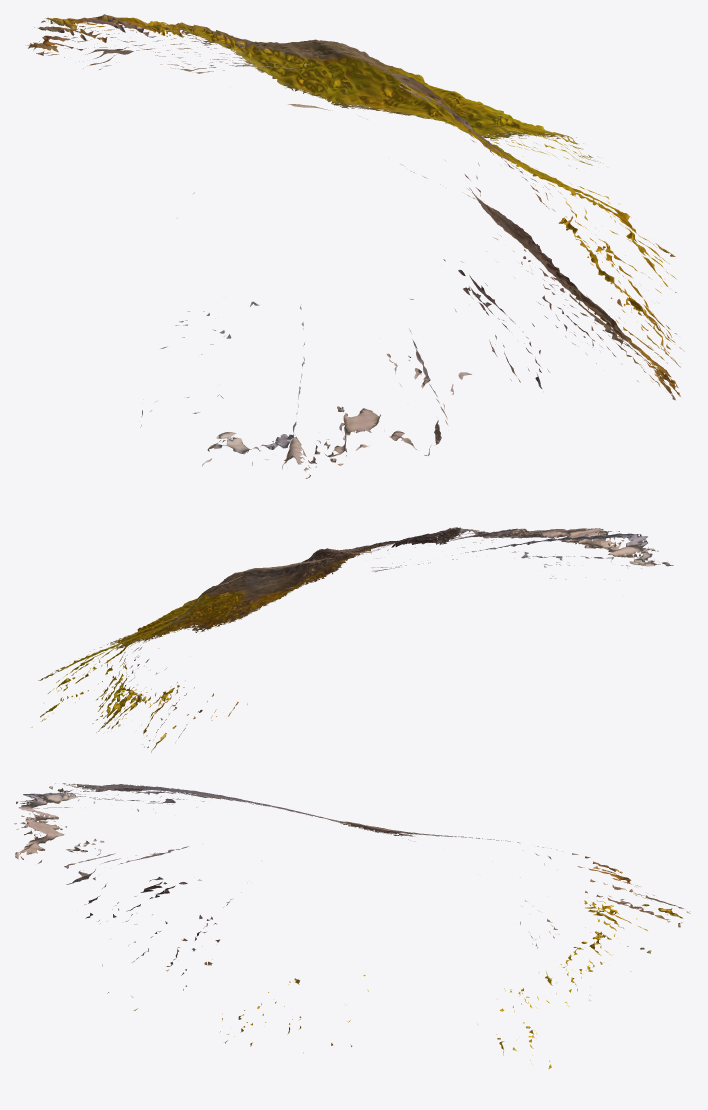
The model's file is world-1769725307916.glb.
3 views of the same model, one above another, from view 1: azimuth 30°, elevation 25°; view 2: azimuth 150°, elevation 25°; view 3: azimuth 270°, elevation 25° (orthographic). The views are drawn at different scales.
Parts seen in each view (by area): view 1: world; view 2: world; view 3: world.
Boxes of the visible parts, left/top/right/bottom form: world: left=27, top=14, right=684, bottom=478; world: left=31, top=527, right=673, bottom=752; world: left=14, top=783, right=690, bottom=1069.
Size of the model in its own units: 134 by 39.47 by 165.
